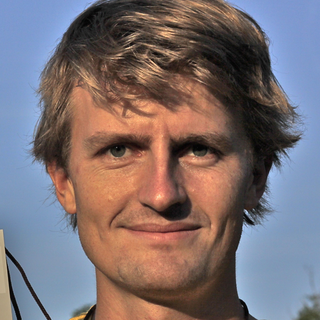eye: (90, 135, 151, 168), (175, 136, 226, 167)
